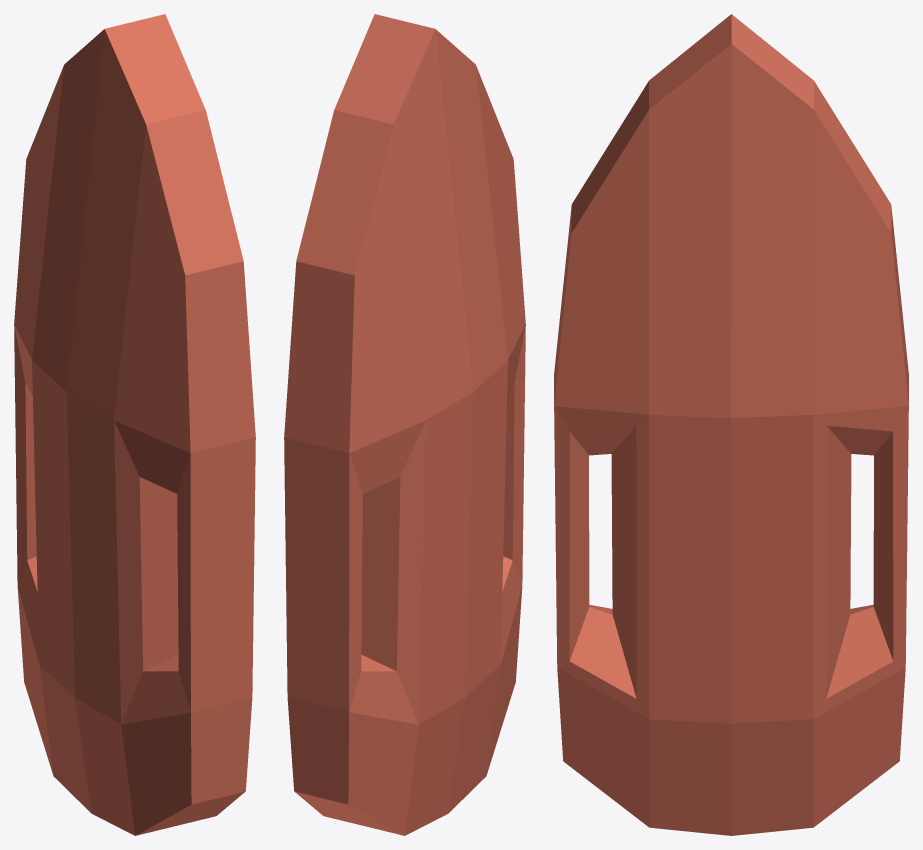
The model's file is float.glb.
The picture shows the model from 3 angles, left to right: view 1: azimuth 30°, elevation 25°; view 2: azimuth 150°, elevation 25°; view 3: azimuth 270°, elevation 25°; orthographic projection.
Parts seen in each view (by area): view 1: float; view 2: float; view 3: float.
Boxes of the visible parts, bbox=[...] form: float: bbox=[14, 14, 255, 835]; float: bbox=[284, 14, 525, 835]; float: bbox=[554, 14, 908, 835].
Bounding box in the file's own units: 0.1573 × 0.8584 × 0.3513.
